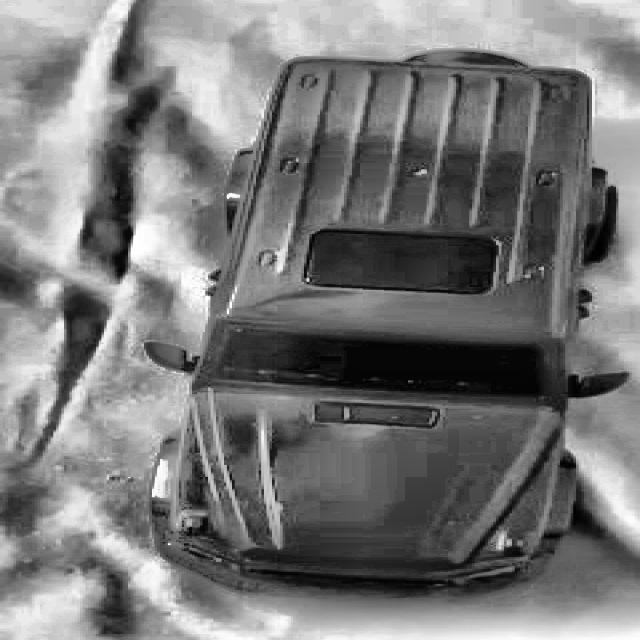light_vehicle: (111, 44, 626, 574)
